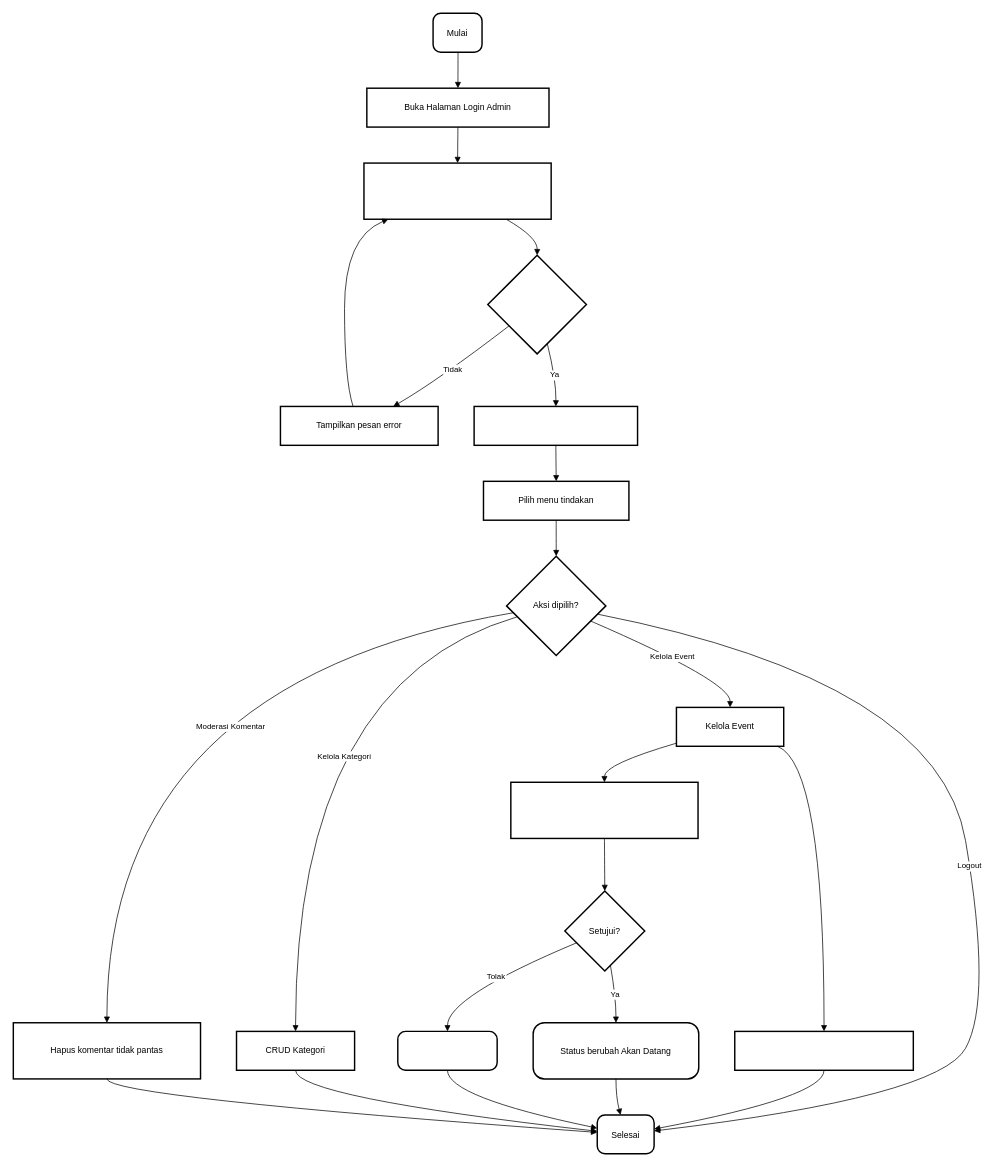
This 994x1166 diagram has some shape labels left out. Each missing label, with the centre of its shape:
Event terhapus: [447,1050]
Lihat Event Menunggu Persetujuan: [604,810]
Login valid?: [537,304]
Masuk ke Dasbor Admin: [555,425]
Masukkan Username & Password: [457,191]
Tambah/Edit/Hapus Event: [824,1050]
